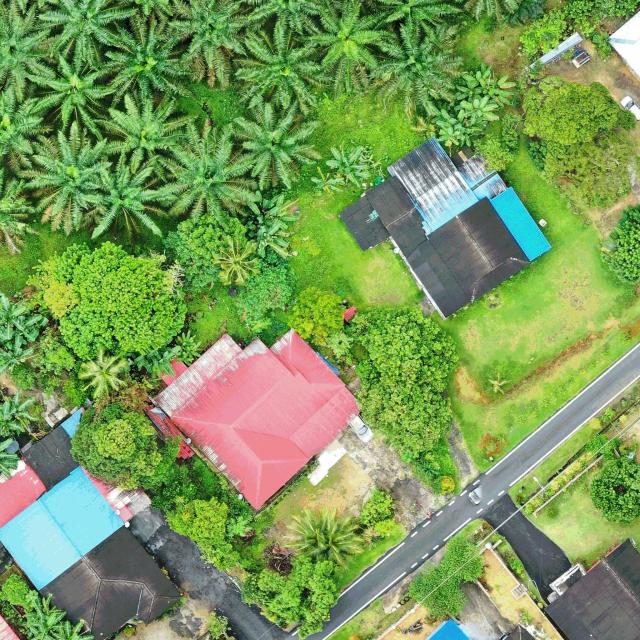Tree: (25, 240, 187, 362), (15, 120, 114, 236), (159, 114, 261, 223), (344, 306, 458, 392), (366, 14, 464, 114), (224, 17, 321, 117), (71, 404, 182, 491), (94, 94, 198, 183), (296, 1, 392, 94), (24, 50, 116, 145), (162, 1, 260, 89), (354, 378, 454, 463), (522, 75, 634, 147), (83, 152, 169, 243), (257, 552, 345, 640), (231, 104, 317, 192), (537, 133, 633, 210), (26, 1, 139, 66), (101, 16, 181, 107), (162, 215, 247, 292), (280, 504, 362, 568), (232, 253, 293, 334), (289, 286, 347, 350), (589, 454, 640, 524), (408, 565, 467, 620), (213, 233, 266, 287), (78, 349, 129, 398), (22, 590, 66, 640), (440, 536, 485, 584), (325, 144, 371, 187), (0, 391, 39, 439), (246, 194, 296, 231), (434, 109, 481, 146), (0, 313, 48, 348), (248, 223, 290, 258), (475, 74, 514, 108), (361, 487, 395, 525), (149, 344, 181, 384), (0, 292, 26, 341), (460, 95, 499, 125), (0, 344, 35, 375), (0, 572, 31, 606), (50, 618, 90, 640), (176, 331, 203, 363), (455, 80, 485, 104)
